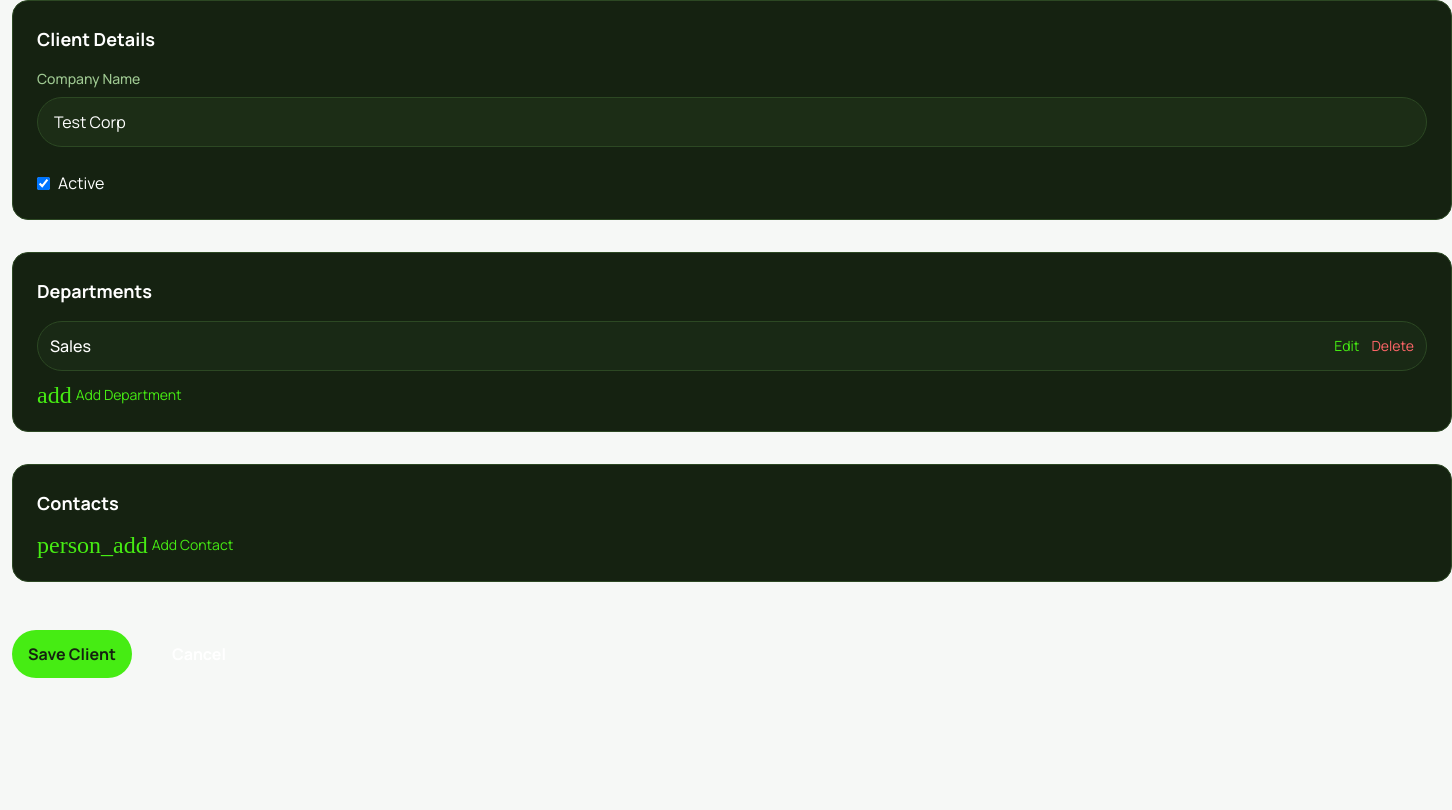
ClientForm › edits an existing department
// Click Edit
Click the button "Edit". click: (1347, 346)
box: [1334,336,1360,356]
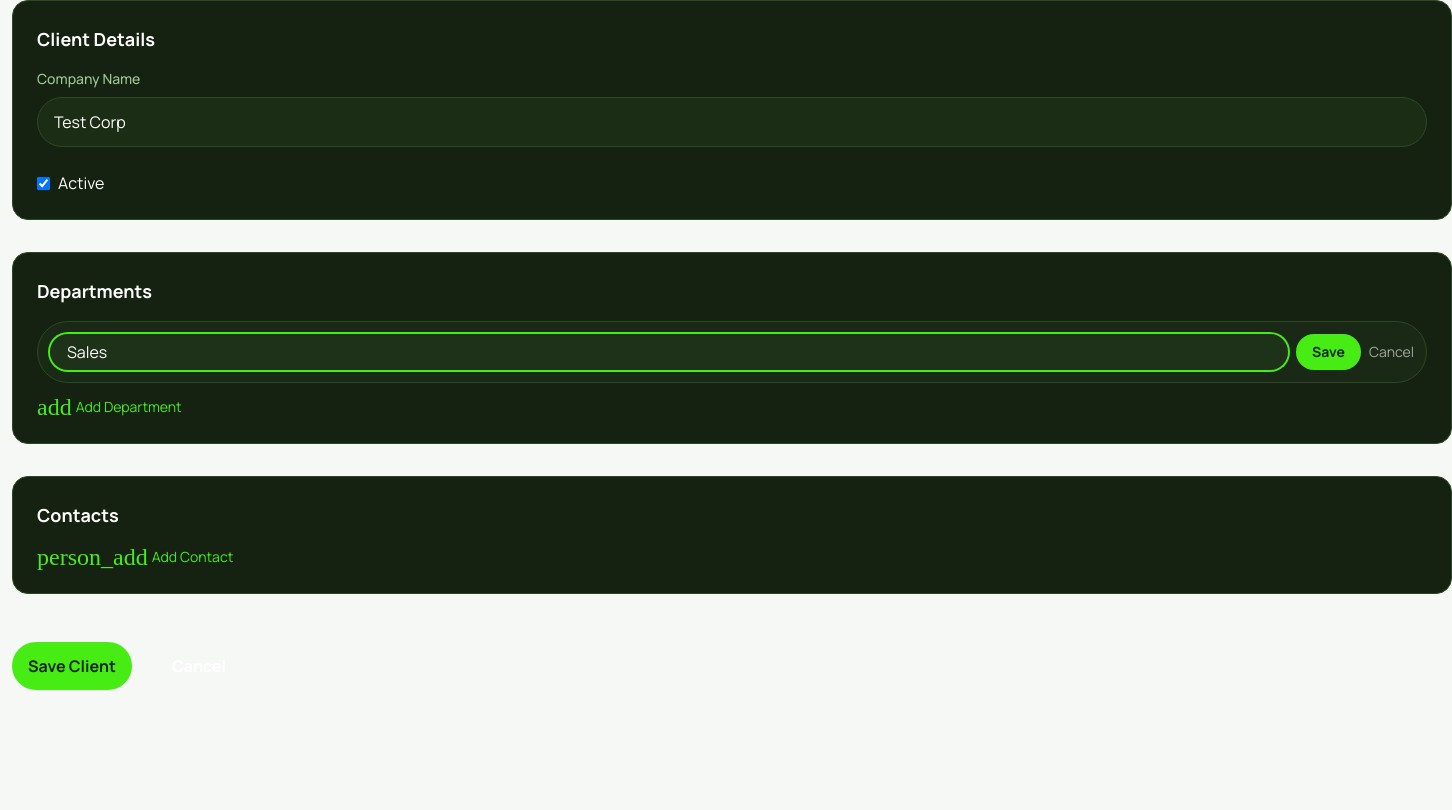
// Change value
Replace the text in the field showing "Sales" with "Global Sales". click: (669, 352)
box: [50,334,1288,370]
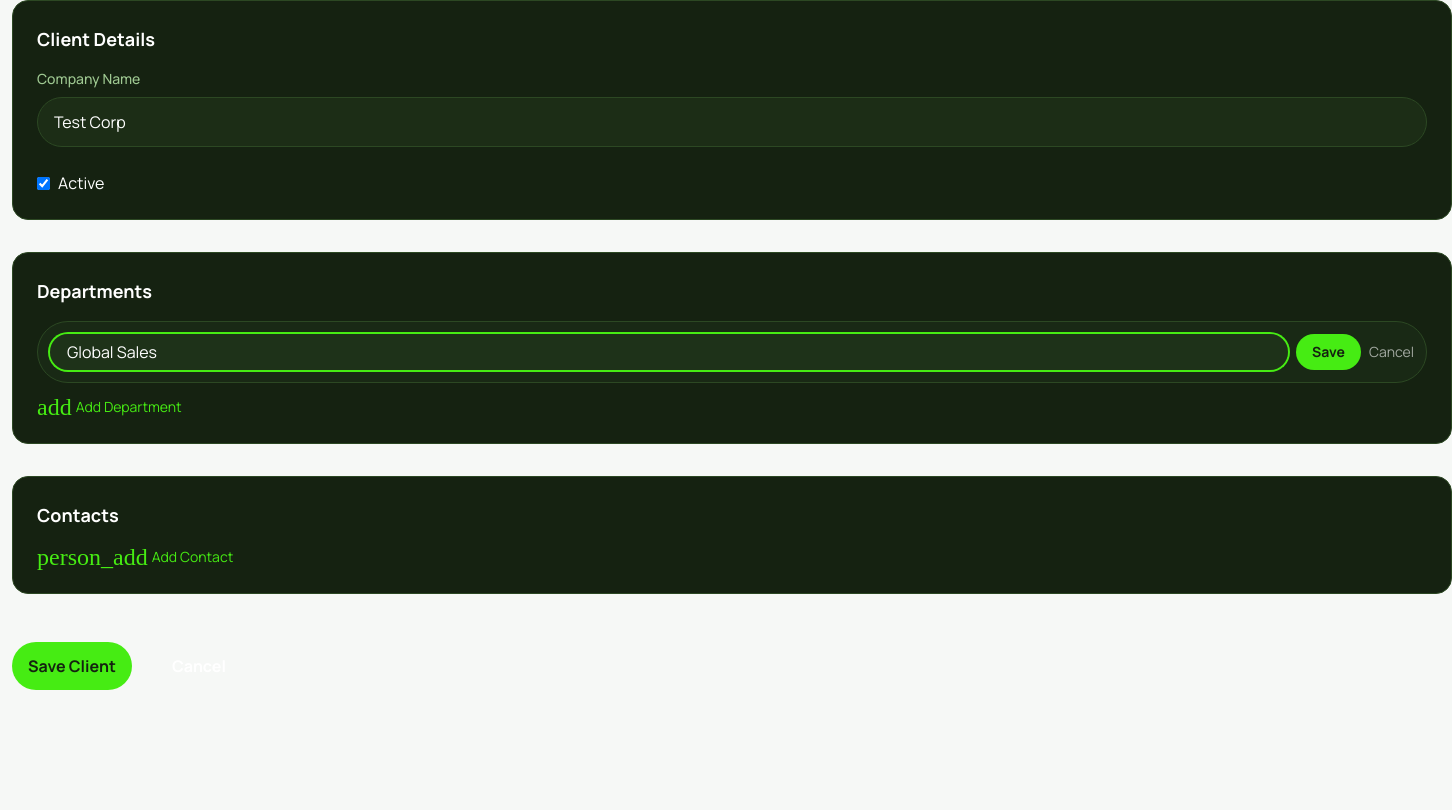
Click the button "Save". click: (1328, 352)
box: [1296,334,1361,370]
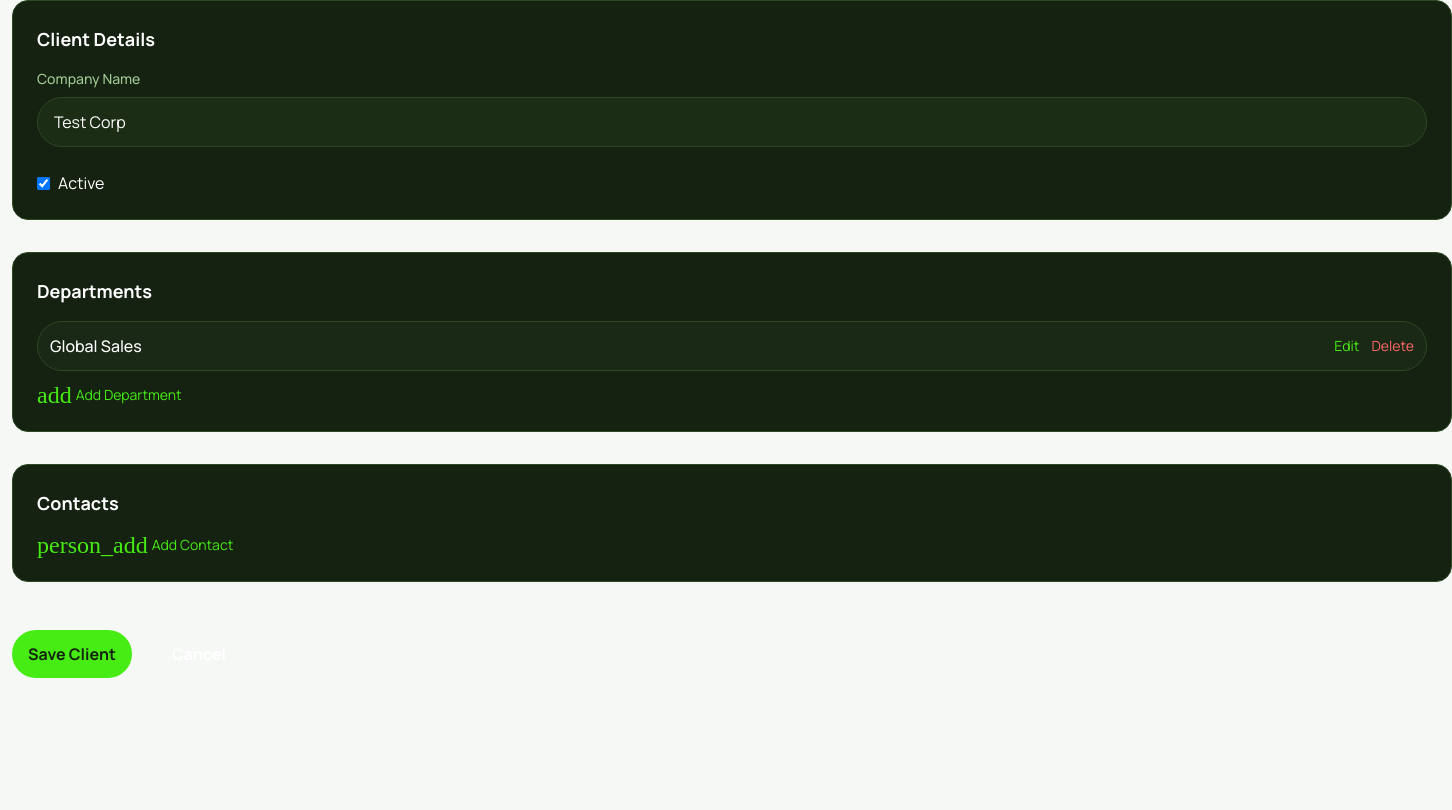
Expected: the text "Global Sales" is shown, [50,334,142,358]
